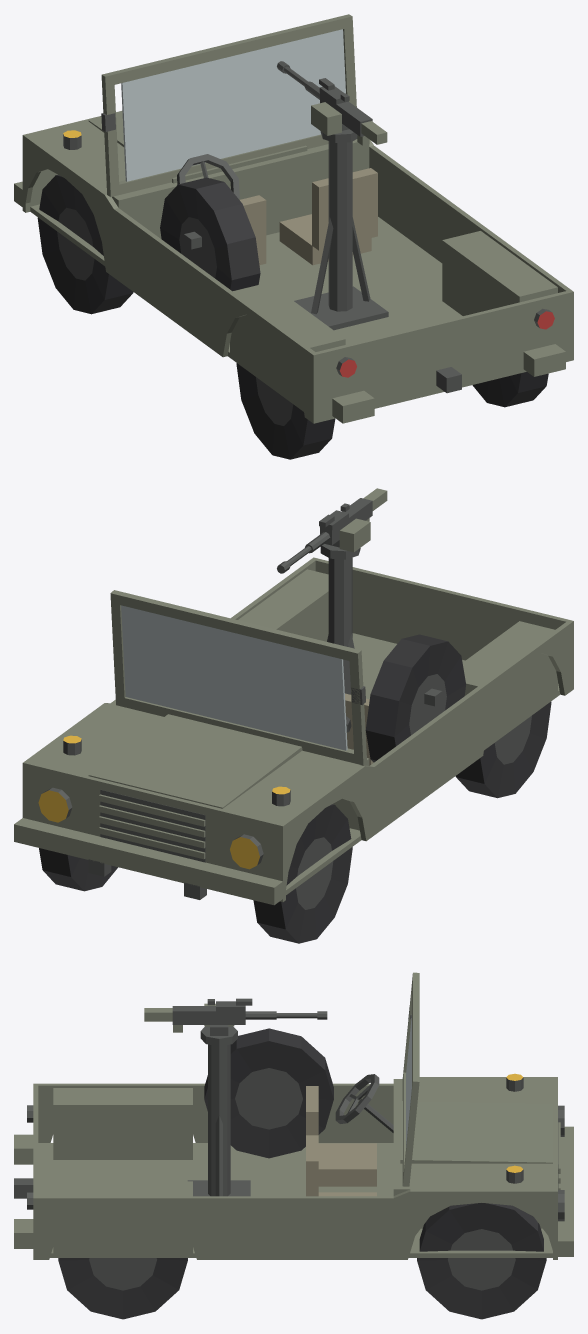
File: m151_mutt_gun_jeep_v2.glb
The picture shows the model from 3 angles, top to bottom: view 1: azimuth 30°, elevation 25°; view 2: azimuth 150°, elevation 25°; view 3: azimuth 270°, elevation 25°; orthographic projection. The views are drawn at different scales.
Visible parts, largest first — view 1: M151_Body, M151_Windscreen, M151_SpareTyre, M151_GunMount, m151_wheel_fl, m151_wheel_rl, M151_Gun, m151_wheel_rr; view 2: M151_Body, M151_Windscreen, M151_SpareTyre, m151_wheel_fl, m151_wheel_rl, M151_Gun, M151_GunMount, m151_wheel_fr; view 3: M151_Body, m151_wheel_fr, M151_SpareTyre, m151_wheel_rr, M151_GunMount, M151_Gun, M151_Windscreen.
Part boxes in pixels (box(x1,y1,x2,y2)): M151_Body: box(14, 111, 573, 423); M151_Windscreen: box(101, 14, 356, 196); M151_SpareTyre: box(160, 177, 260, 291); M151_GunMount: box(294, 129, 388, 330); m151_wheel_fl: box(37, 175, 133, 314); m151_wheel_rl: box(236, 363, 335, 459); M151_Gun: box(277, 61, 387, 145); m151_wheel_rr: box(472, 372, 548, 407); M151_Body: box(14, 557, 573, 905); M151_Windscreen: box(110, 590, 367, 765); M151_SpareTyre: box(365, 634, 466, 762); m151_wheel_fl: box(253, 804, 352, 943); m151_wheel_rl: box(455, 701, 551, 798); M151_Gun: box(277, 488, 387, 573); M151_GunMount: box(320, 544, 360, 694); m151_wheel_fr: box(39, 848, 117, 891); M151_Body: box(14, 1073, 573, 1259); m151_wheel_fr: box(417, 1203, 546, 1319); M151_SpareTyre: box(204, 1028, 333, 1158); m151_wheel_rr: box(58, 1258, 187, 1319); M151_GunMount: box(187, 1026, 250, 1196); M151_Gun: box(144, 998, 327, 1035); M151_Windscreen: box(402, 972, 419, 1186).
Size of what is drawn, in the model's own units: 1.63 by 1.76 by 3.37.
